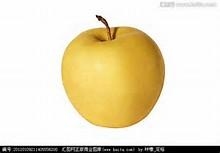apple: (57, 15, 171, 128)
